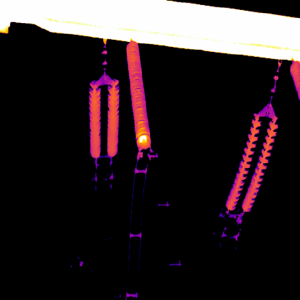insulator: (224, 113, 277, 210), (123, 36, 150, 150), (106, 77, 118, 158), (87, 85, 100, 158)
